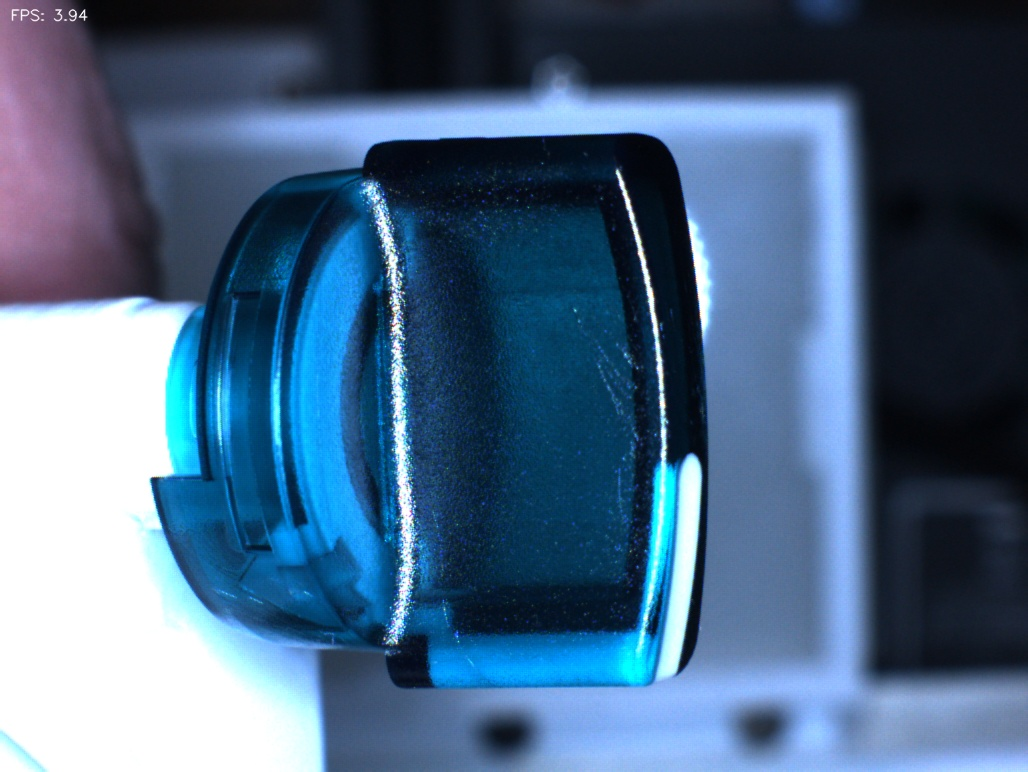Givrage: (567, 292, 653, 528)
